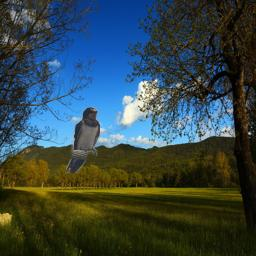Swallow: (65, 107, 100, 174)
